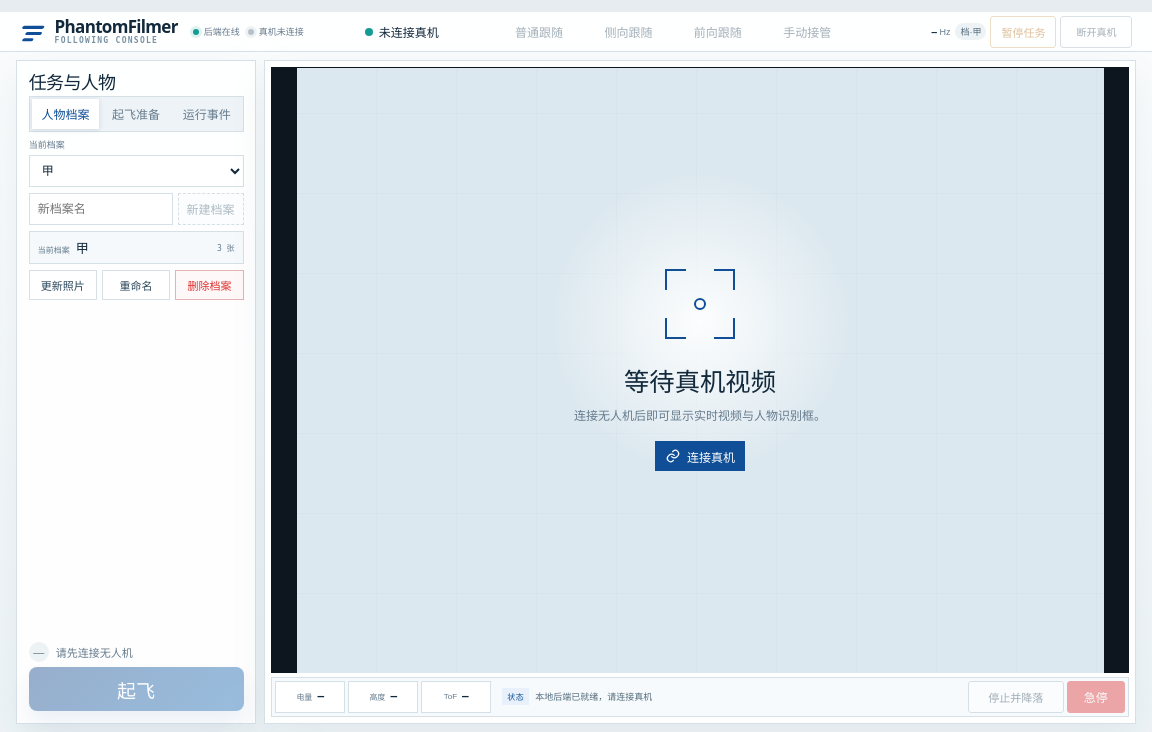
Test: desktop follow console › requires confirmation and deletes the selected profile recoverably
The width and height of the screenshot is (1152, 732).
Click the button "删除档案". click: (209, 285)
box: 175,270 -> 244,300
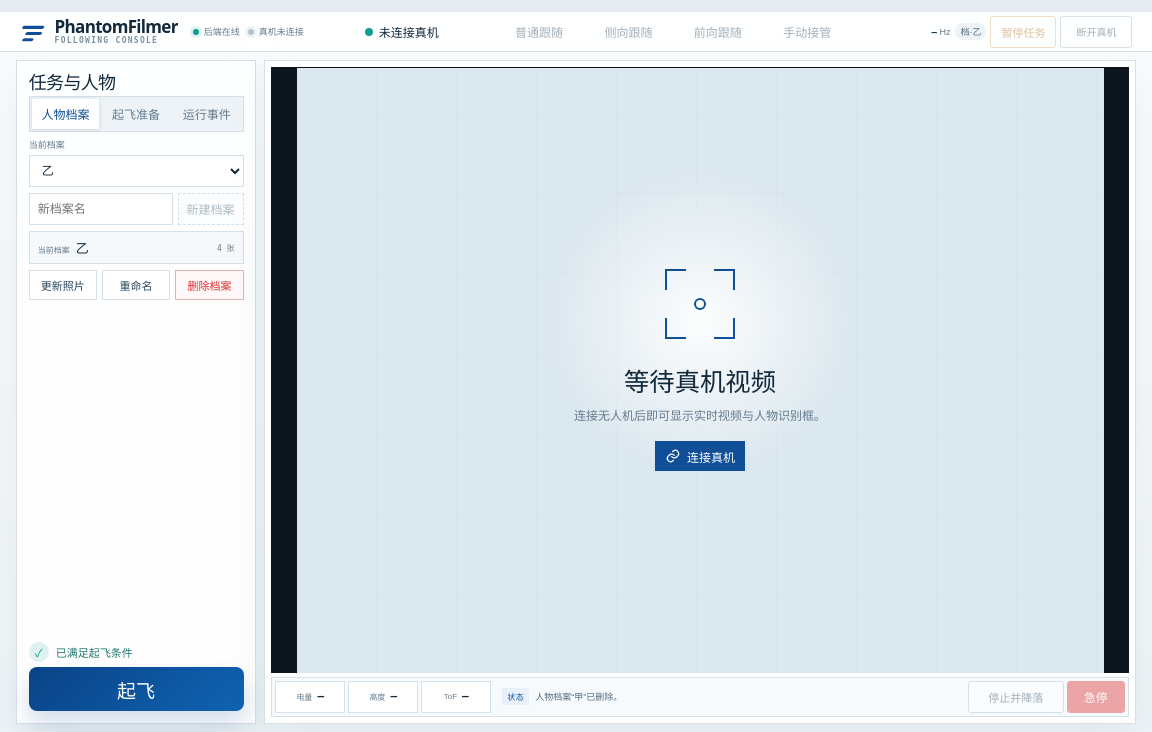
Expected: the dropdown named "人物档案" shows "乙", 29,155 -> 244,187
